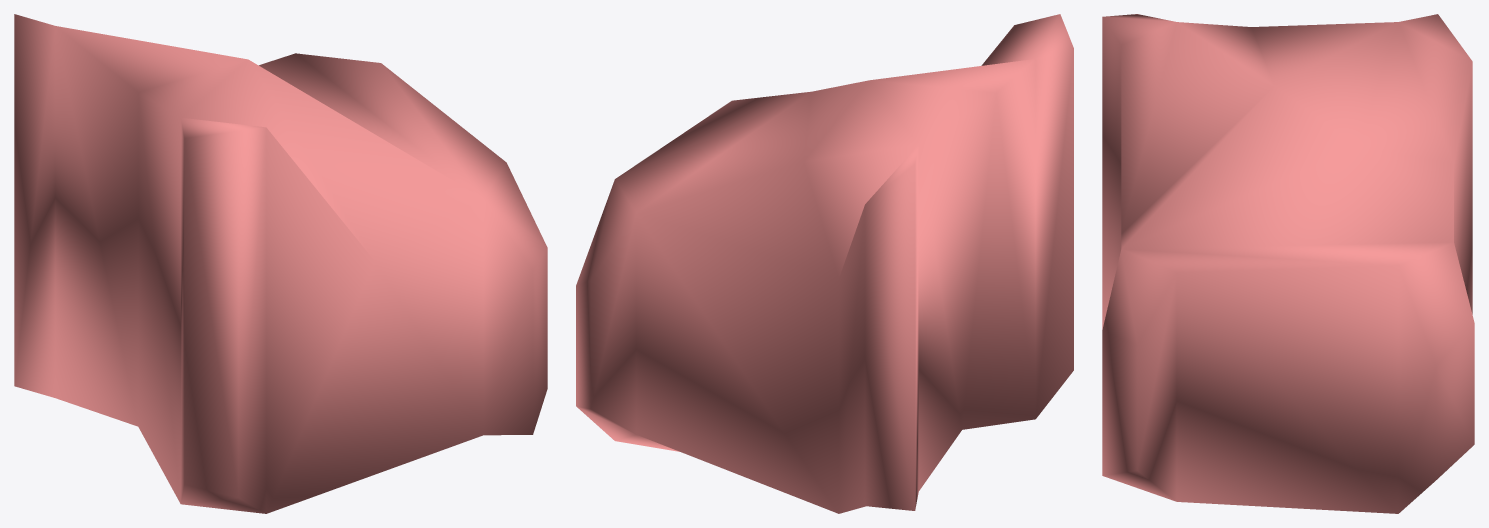
File: skruins_transcept_body04.gltf
3 views of the same model, side by side, from view 1: azimuth 30°, elevation 25°; view 2: azimuth 150°, elevation 25°; view 3: azimuth 270°, elevation 25° (orthographic). The views are drawn at different scales.
Visible parts, largest first — view 1: skruins_transcept_body04; view 2: skruins_transcept_body04; view 3: skruins_transcept_body04.
Part boxes in pixels (x1,y1,x2,y2): skruins_transcept_body04: (14,14,547,513); skruins_transcept_body04: (576,14,1073,513); skruins_transcept_body04: (1102,14,1474,513).
Bounding box in the file's own units: 0.367 × 0.4145 × 0.367.
